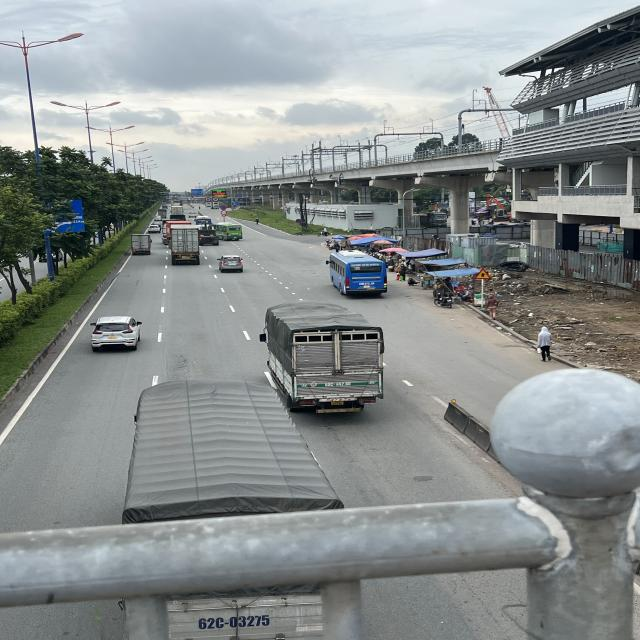car: (89, 316, 141, 349), (217, 254, 244, 274), (146, 224, 160, 234)
coach: (324, 251, 389, 295), (212, 222, 243, 241)
container: (169, 224, 201, 265)
truck: (259, 302, 387, 413), (130, 233, 154, 254)
